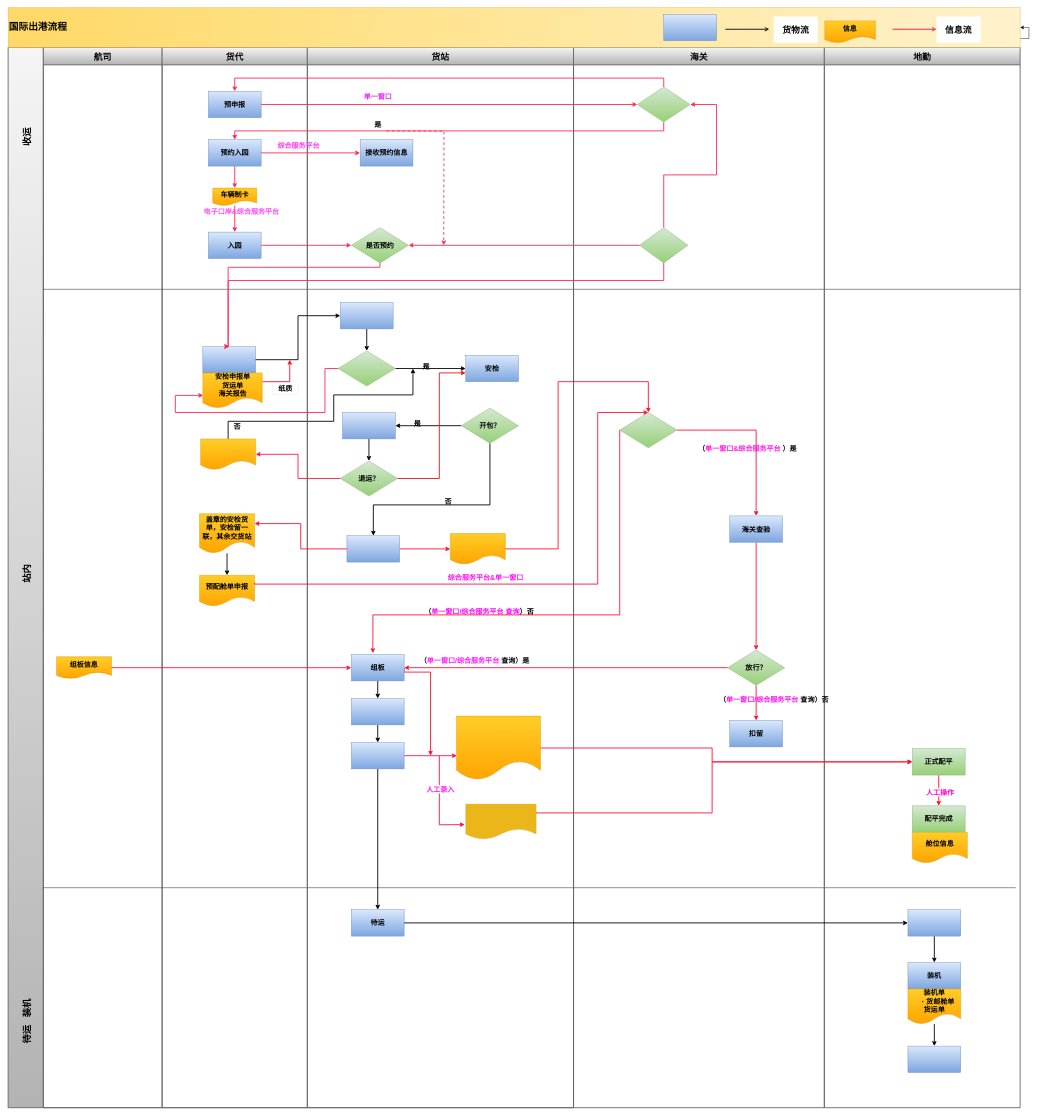
The diagram is 1040 pixels wide and 1116 high, and some of its shapes have lost their labels. Here are the shapes that lost their labels. From the top down, the centre of each, then its label:
(x=690, y=27): 货物
(x=663, y=104): 确认？
(x=663, y=245): 是否申请
(x=366, y=315): 收获
(x=229, y=359): 站台交货
(x=366, y=368): 单据确认
(x=368, y=425): 开包
(x=648, y=430): 查验？
(x=228, y=454): 改 货单 托运单 安检清单
(x=373, y=548): 称重
(x=477, y=548): 运抵报告
(x=377, y=711): 复磅
(x=377, y=755): 挂牌
(x=498, y=748): 货邮交接单 · 板箱号 · 件数 · 重量 货物信息
(x=500, y=821): 预配信息
(x=934, y=922): 空侧托运
(x=934, y=1059): 起飞
